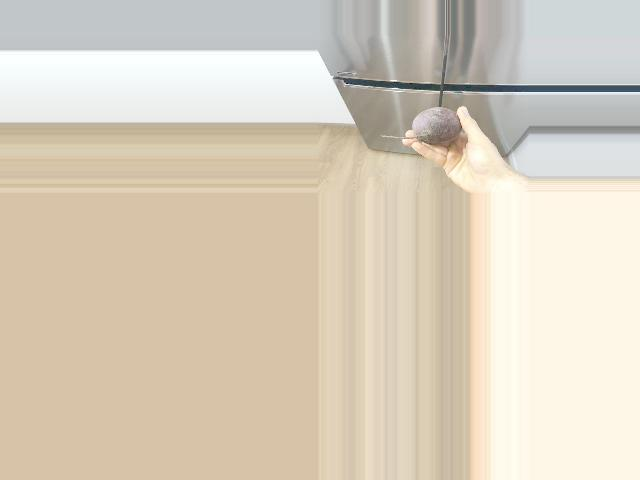beet: (379, 107, 460, 144)
